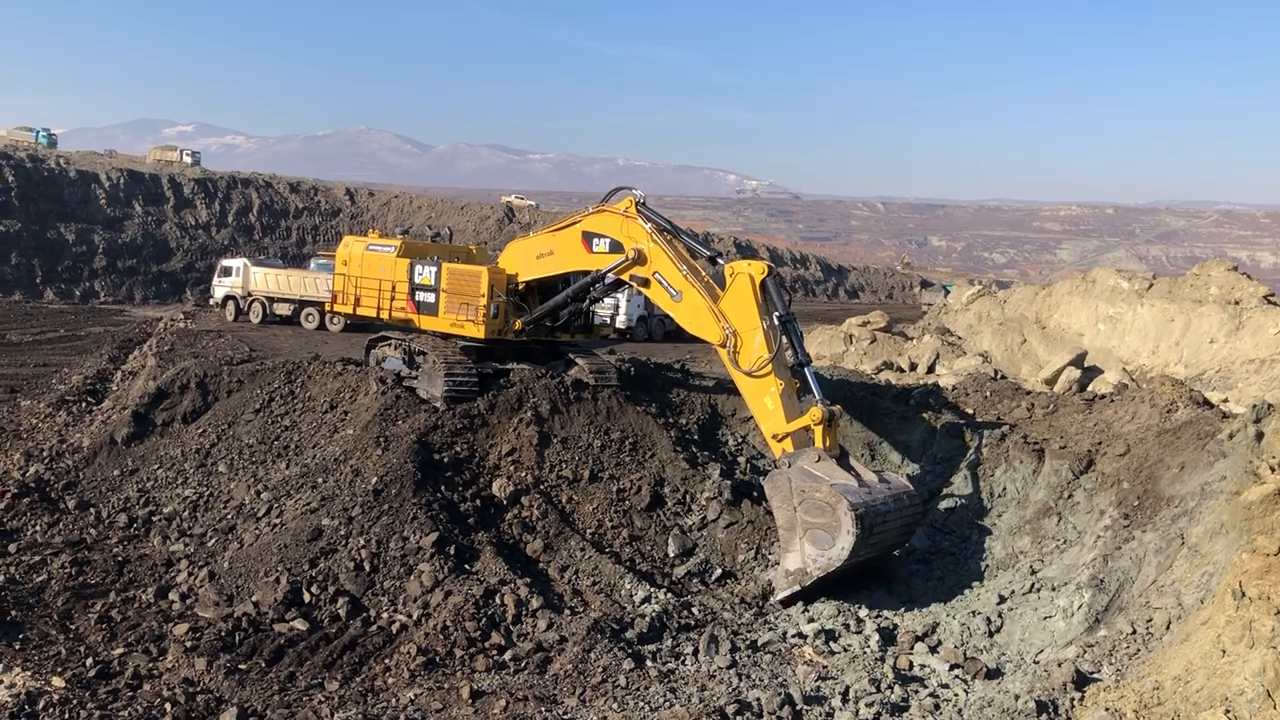empty: (750, 445, 920, 609)
